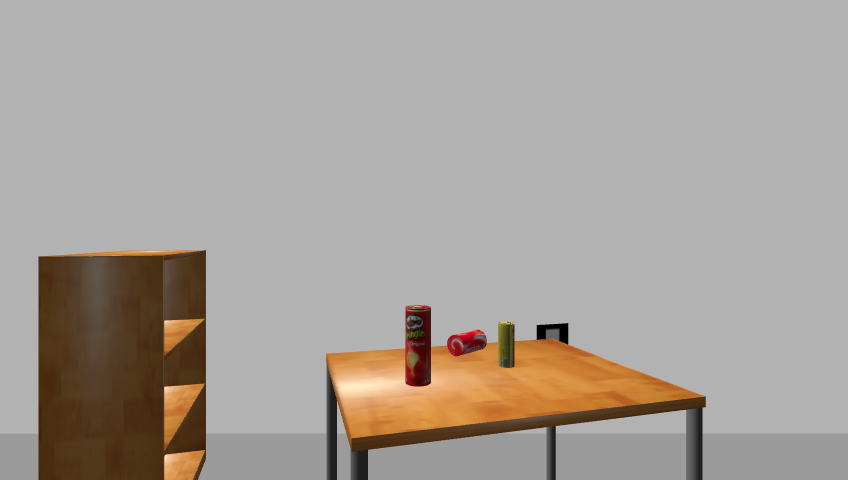aruco marker: (533, 321, 572, 349)
biscuits pack: (498, 321, 516, 369)
bookshelf: (34, 248, 214, 480)
coke can: (445, 330, 488, 358)
dinner table: (316, 338, 713, 480)
pringles can: (402, 304, 433, 389)
